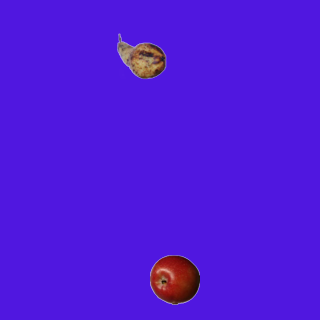Apple Braeburn: (149, 254, 199, 304)
Pear Abate: (116, 31, 166, 81)
